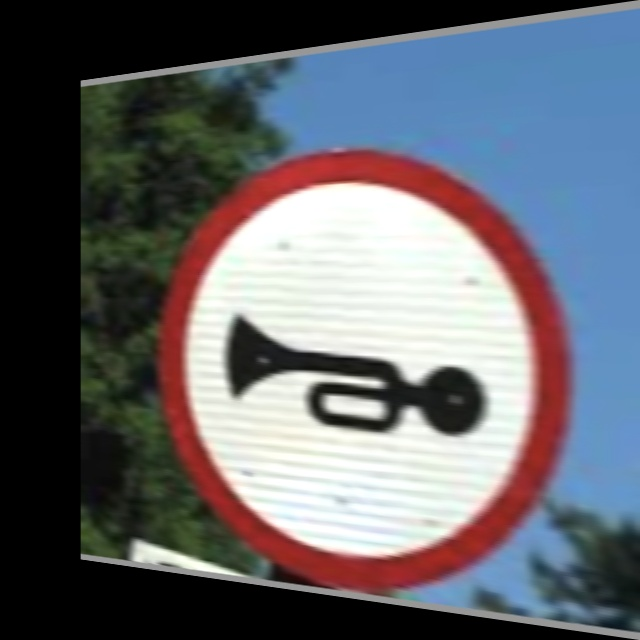Compulsory_Sound_Horn: (167, 141, 553, 579)
